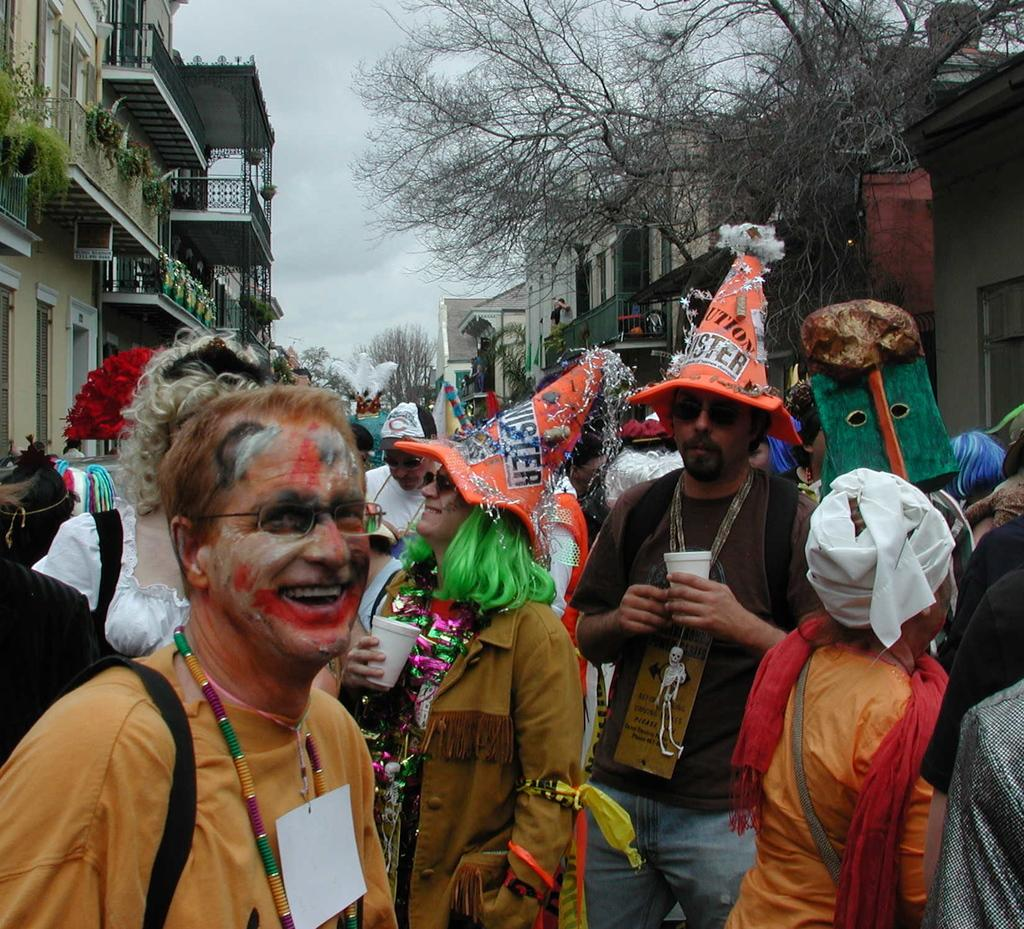Hat: (392, 342, 604, 562), (628, 220, 800, 446), (0, 460, 79, 541)
